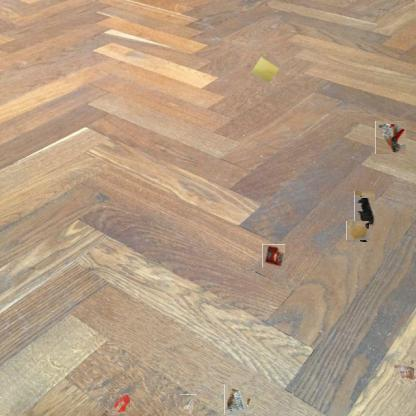dirty: (375, 120, 406, 154), (221, 387, 250, 416), (252, 55, 280, 83), (354, 190, 375, 226), (262, 244, 285, 267), (395, 361, 416, 382), (181, 394, 197, 415)
liquid: (347, 220, 369, 241), (109, 394, 129, 415)
